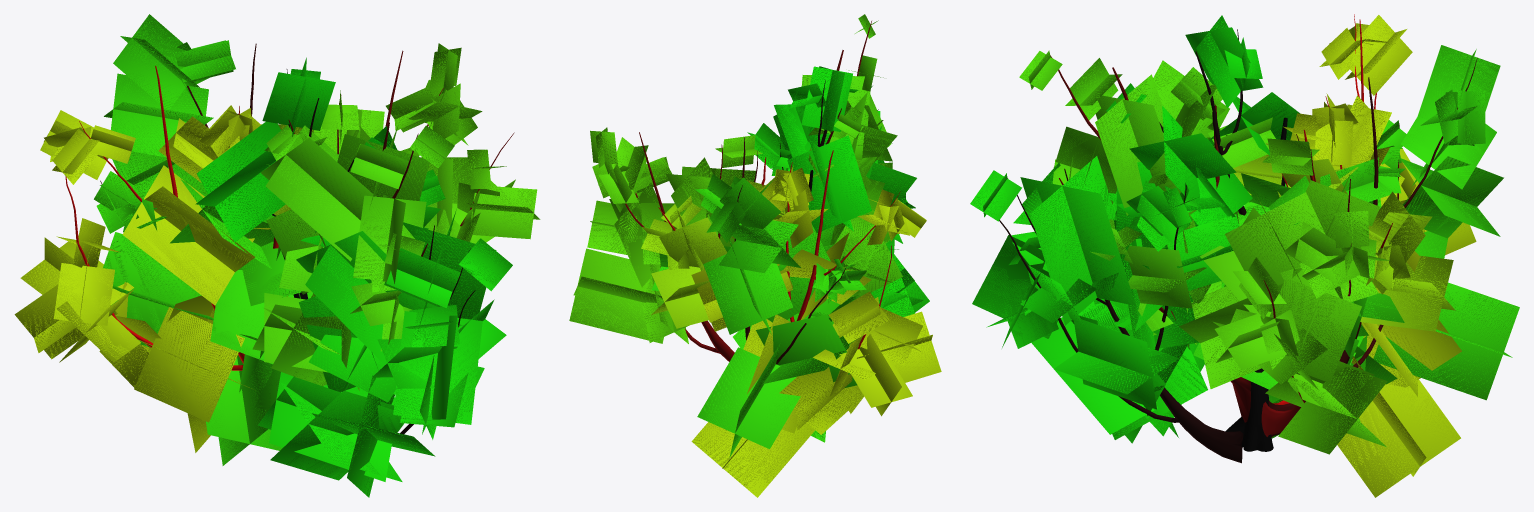
File: Type_1_Tree_13.fbx
The picture shows the model from 3 angles, left to right: view 1: azimuth 30°, elevation 25°; view 2: azimuth 150°, elevation 25°; view 3: azimuth 270°, elevation 25°; orthographic projection. The views are drawn at different scales.
Visible parts, largest first — view 1: Leaf, Trunk; view 2: Leaf, Trunk; view 3: Leaf, Trunk.
Boxes of the visible parts, x1=… form: Leaf: x1=14, y1=14, x2=540, y2=497; Trunk: x1=65, y1=43, x2=514, y2=434; Leaf: x1=569, y1=14, x2=941, y2=497; Trunk: x1=625, y1=21, x2=900, y2=364; Leaf: x1=970, y1=15, x2=1519, y2=497; Trunk: x1=999, y1=14, x2=1477, y2=463.
Bounding box in the file's own units: 3578 × 3488 × 3778.
